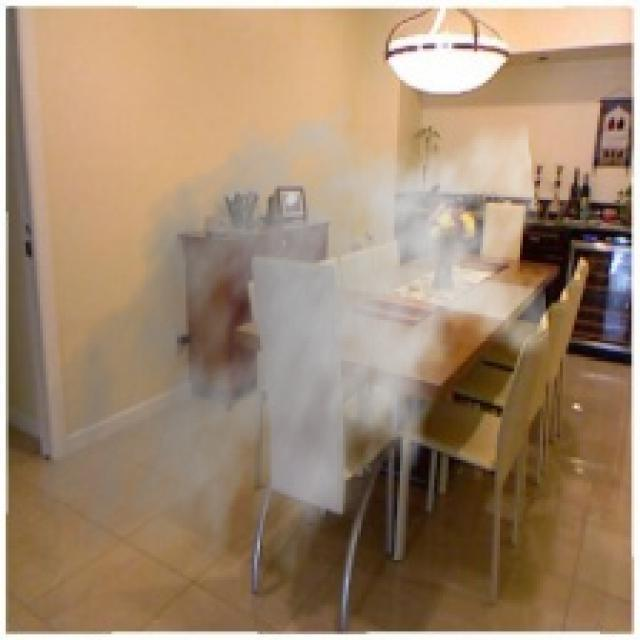Smoke: (31, 85, 552, 618)
